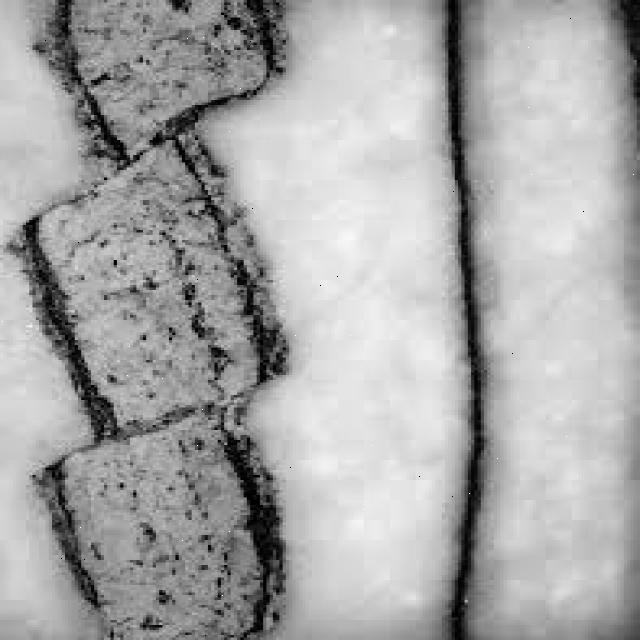Metamorphic: (3, 3, 630, 635)
